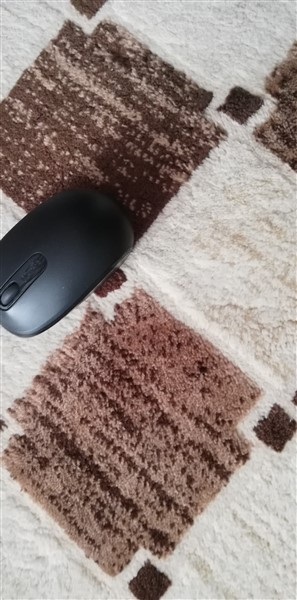mouse: (1, 179, 139, 345)
